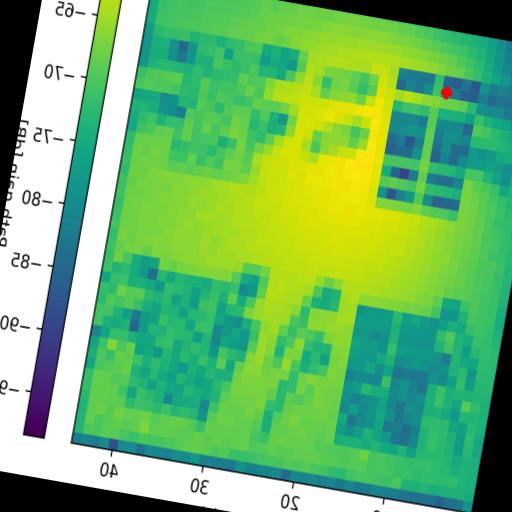Concrete: (166, 30, 272, 185)
Glass: (374, 66, 481, 222)
Metal: (124, 268, 239, 422)
Wood: (332, 304, 438, 458)
